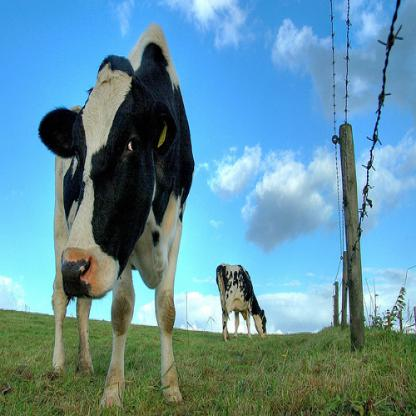cow: (37, 24, 194, 409), (216, 265, 267, 337)
